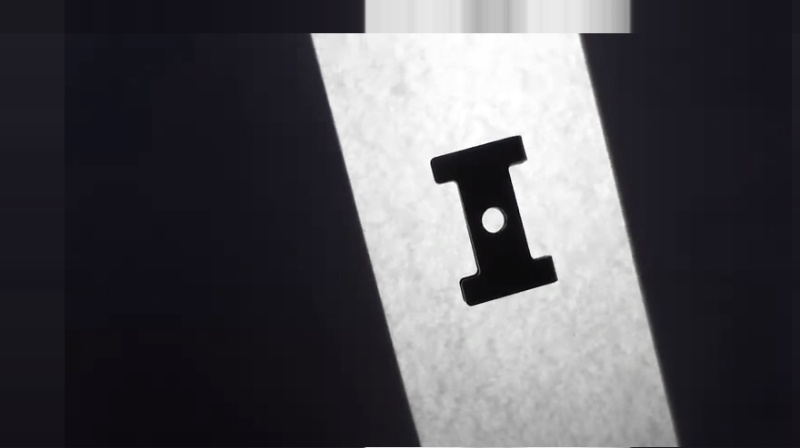O002: (424, 131, 564, 307)
